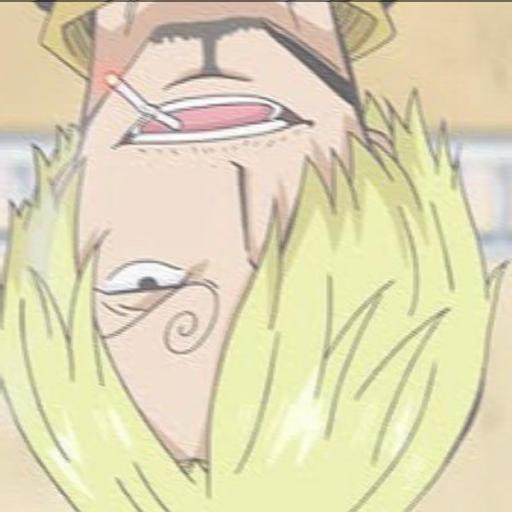sanji: (0, 0, 497, 510)
